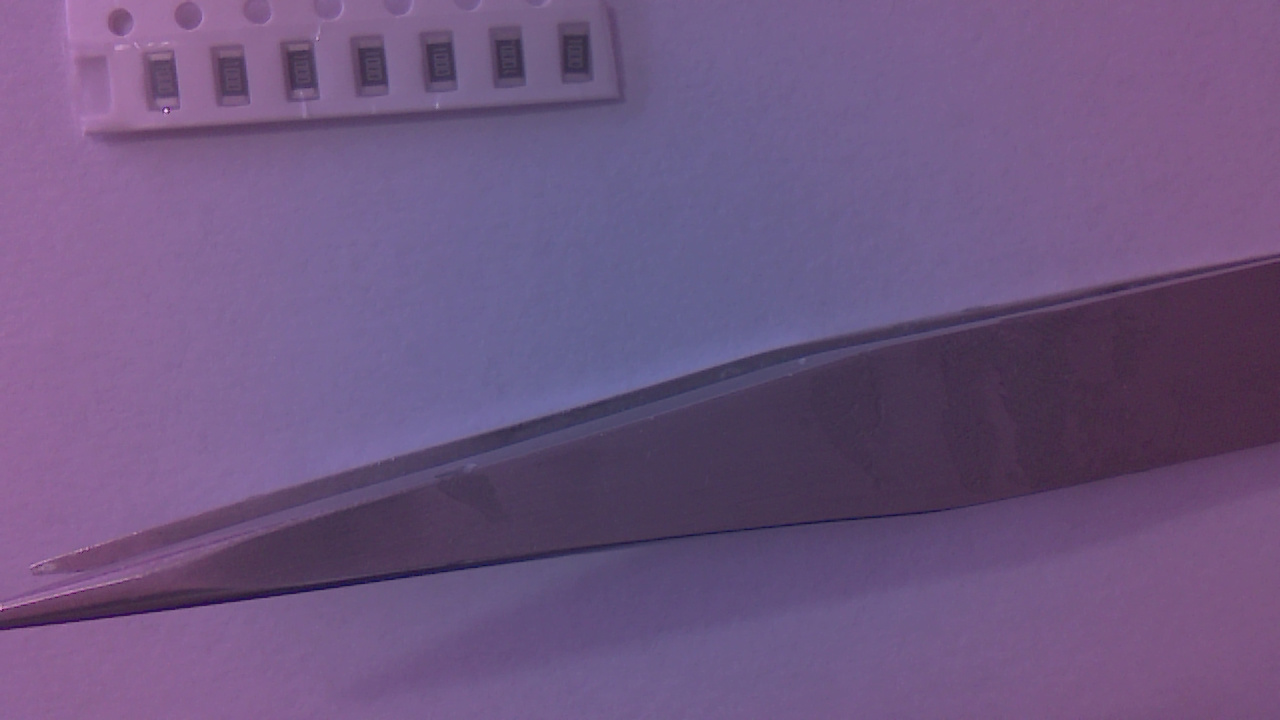Resistor: (287, 43, 327, 107), (428, 38, 465, 96), (357, 41, 394, 99), (221, 52, 259, 108), (152, 53, 188, 111), (496, 33, 529, 91), (565, 31, 598, 87)
